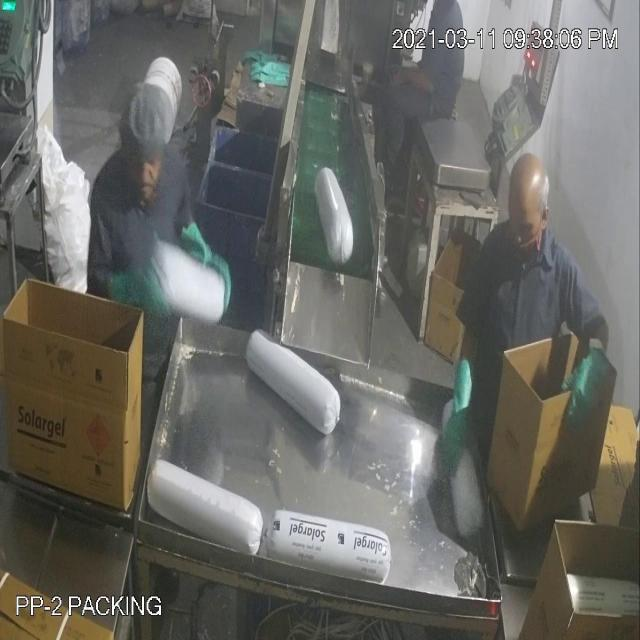No_Gloves: (41, 52, 586, 418)
